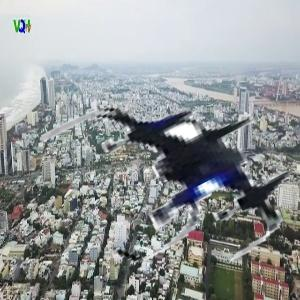drone: (73, 62, 291, 280)
